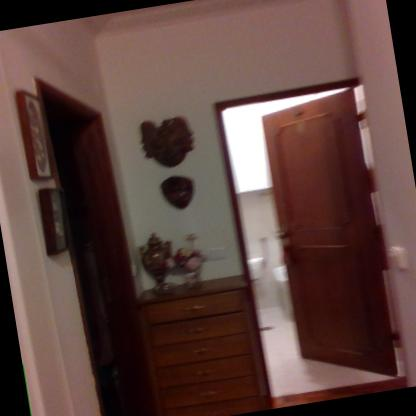semi: (202, 70, 415, 405)
